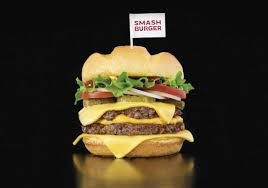hamburger: (77, 43, 192, 158)
